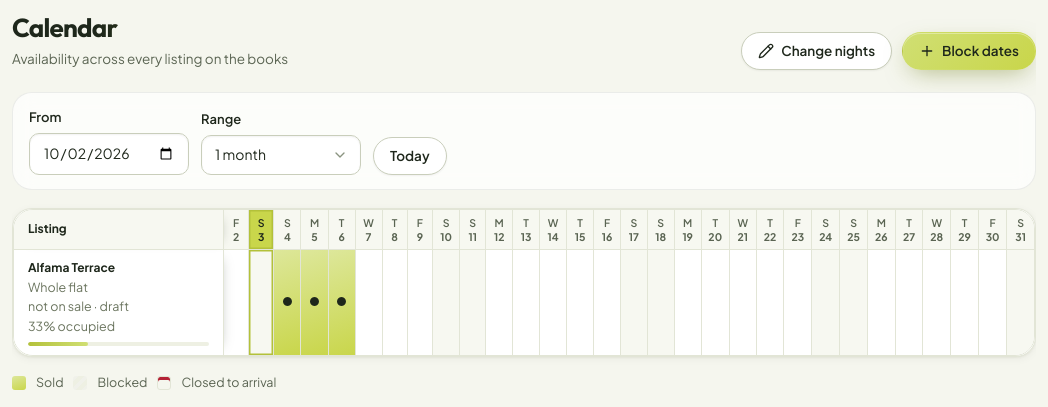
Scenario: the calendar › Today returns to the organization day when UTC is still yesterday
This screenshot has width=1048, height=407.
Expected: the text "Whole flat" is shown, x1=28 y1=279 x2=88 y2=295
Type "2026-09-01" into the date field labelled "From" at coordinates (109, 154), box x1=29 y1=133 x2=189 y2=175
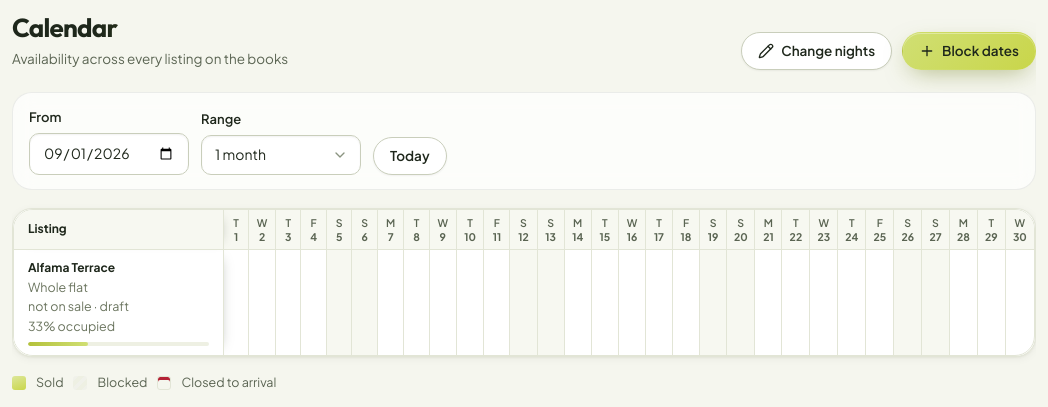
Click the button "Today" at coordinates (410, 156), box x1=373 y1=137 x2=447 y2=175
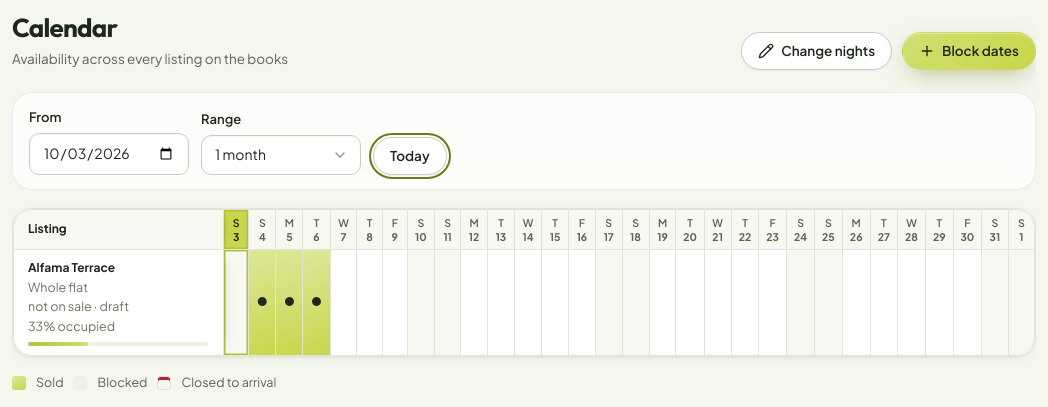
Now the date field labelled "From" holds "2026-10-03", box x1=29 y1=133 x2=189 y2=175
